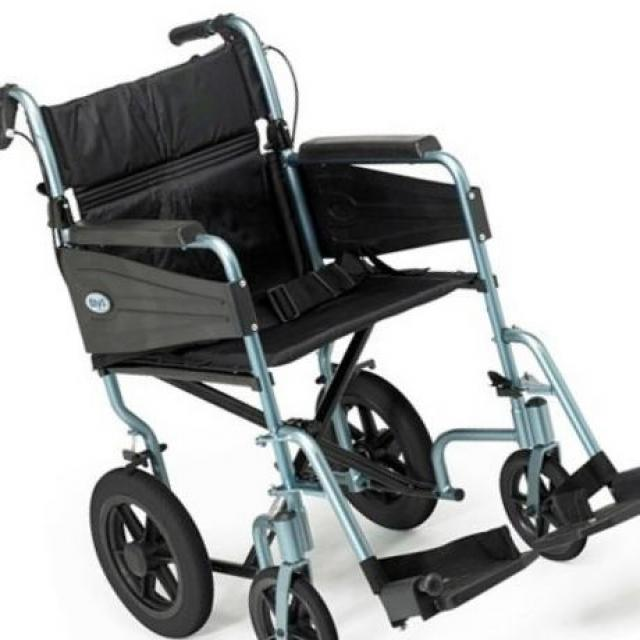wheelchair: (1, 13, 640, 640)
